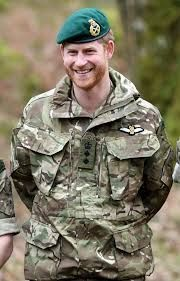uniform: (12, 50, 156, 268)
